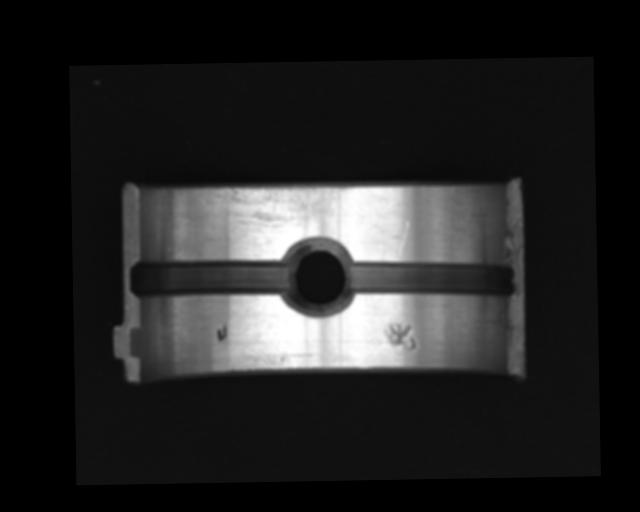blot: (217, 322, 228, 344)
bruise: (383, 322, 417, 352)
gap: (347, 258, 515, 301), (129, 259, 293, 299)
hole: (280, 237, 357, 317)
nick: (396, 220, 410, 260)
scratch: (199, 183, 354, 229)
